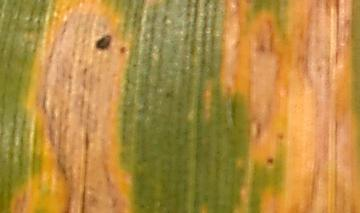tarspot: (92, 31, 115, 52), (264, 154, 276, 167)
